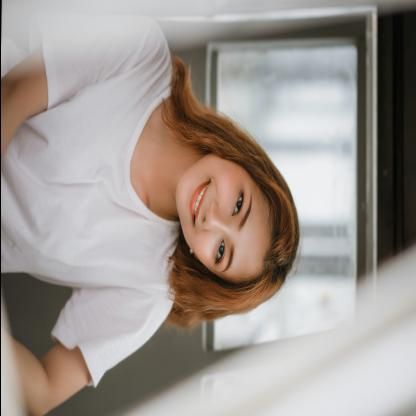Eye: (230, 190, 244, 216), (213, 239, 225, 265)
Mouth: (188, 179, 212, 229)
Nose: (201, 198, 230, 238)
